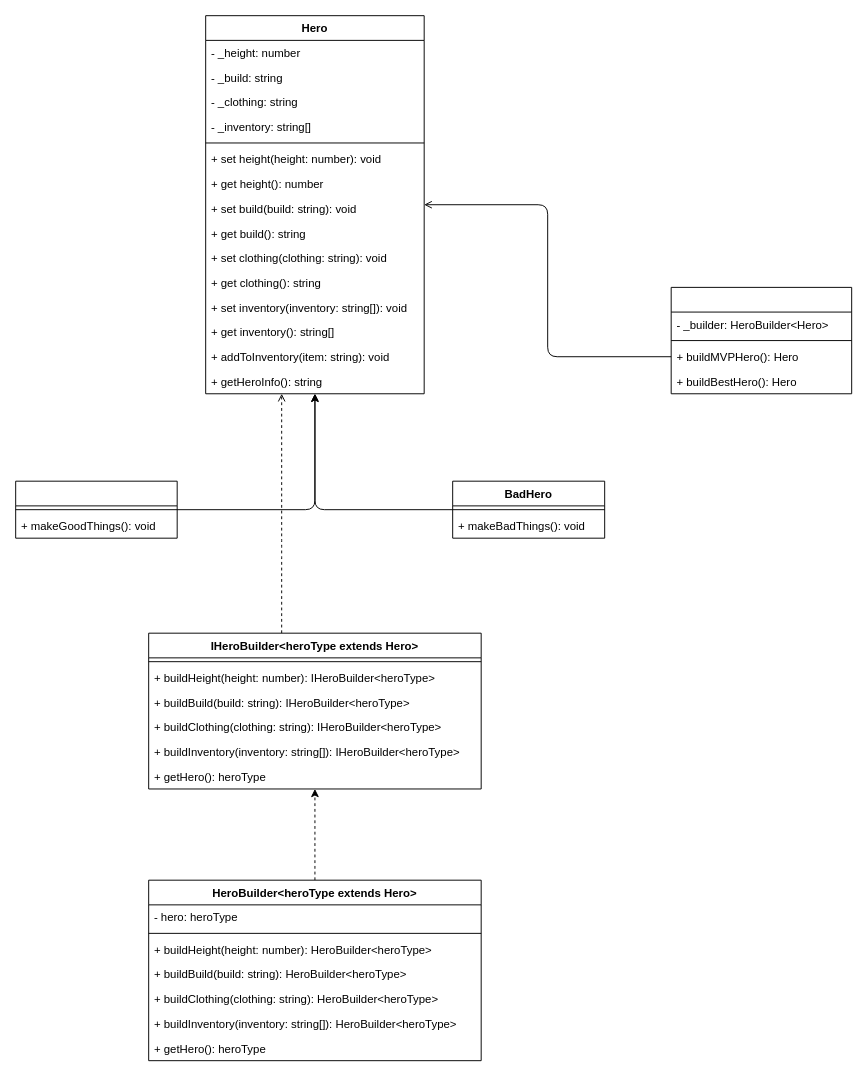
This 867x1076 diagram has some shape labels left out. The shapes that lost their labels are listed below. From the top down, each one's box as (x1, y1, x2, y2) in pixels, then its label:
(670, 286, 852, 394): HeroDirector
(15, 480, 177, 538): GoodHero
